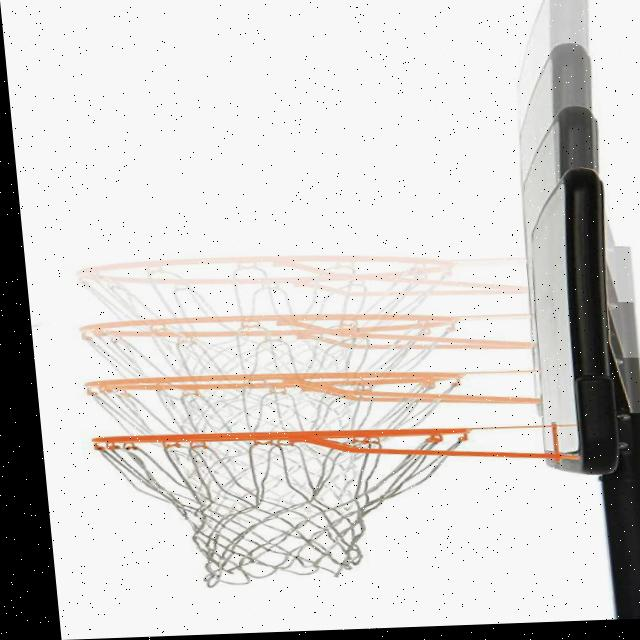hoop: (94, 423, 489, 591)
